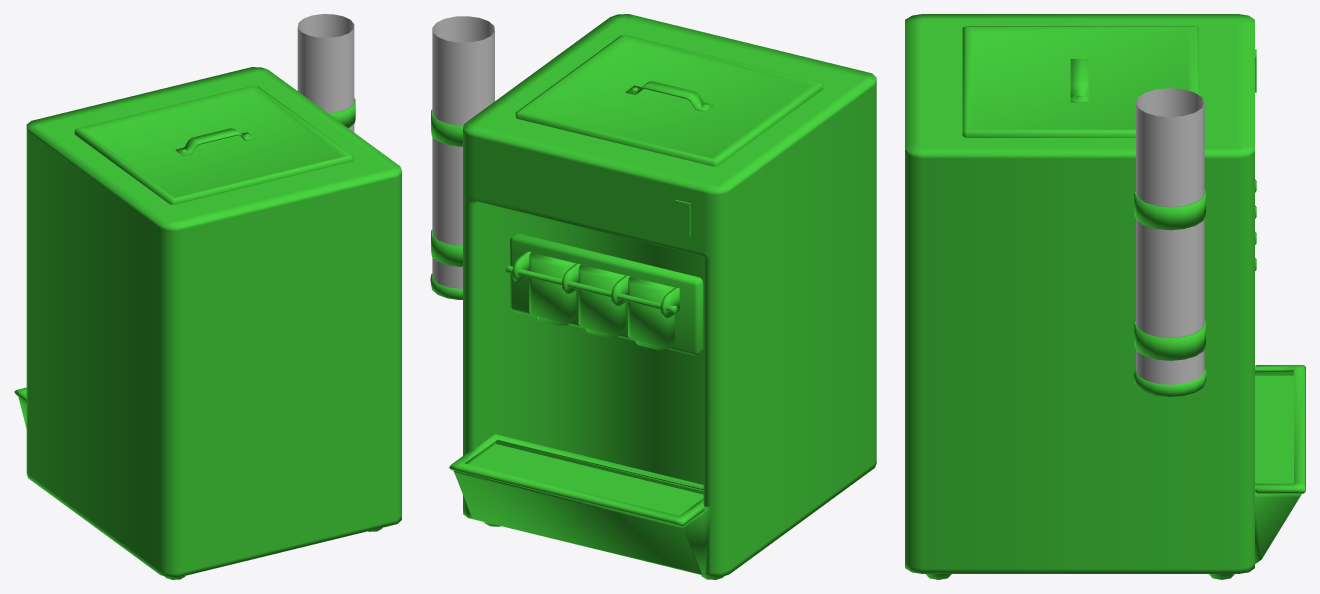
File: VMP_MOD_Soft_serve_machine_01.fbx
The picture shows the model from 3 angles, left to right: view 1: azimuth 30°, elevation 25°; view 2: azimuth 150°, elevation 25°; view 3: azimuth 270°, elevation 25°; orthographic projection. The views are drawn at different scales.
Visible parts, largest first — view 1: VMP_MOD_Soft_serve_machine_01; view 2: VMP_MOD_Soft_serve_machine_01; view 3: VMP_MOD_Soft_serve_machine_01.
Boxes of the visible parts, box(x1,y1,x2,y2) form: VMP_MOD_Soft_serve_machine_01: box(14, 14, 401, 579); VMP_MOD_Soft_serve_machine_01: box(430, 14, 876, 579); VMP_MOD_Soft_serve_machine_01: box(905, 14, 1305, 579).
Bounding box in the file's own units: 0.6378 × 0.8622 × 0.6245.
